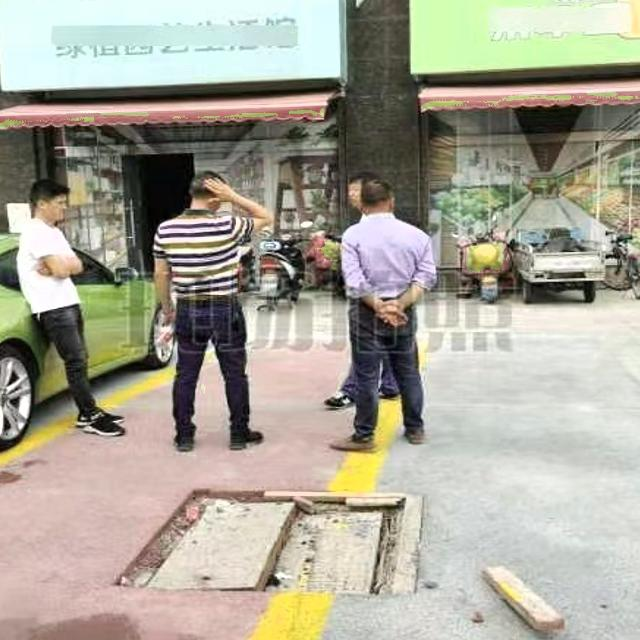circle: (127, 490, 422, 600)
